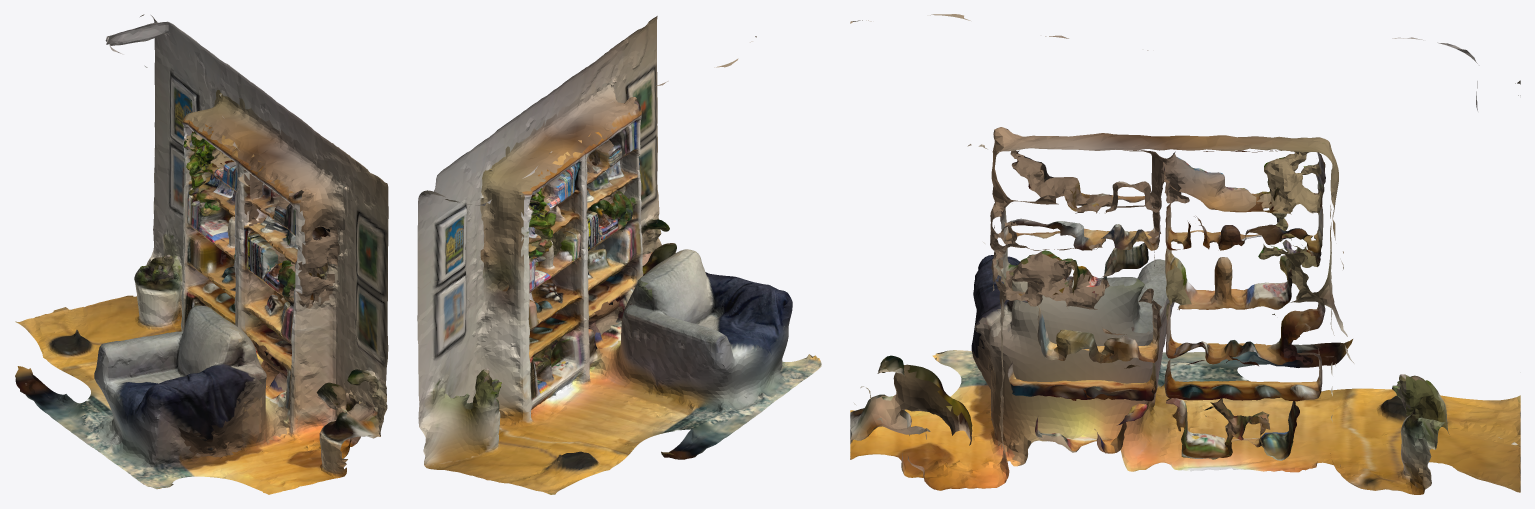
The model's file is bookshelf22.glb.
The picture shows the model from 3 angles, left to right: view 1: azimuth 30°, elevation 25°; view 2: azimuth 150°, elevation 25°; view 3: azimuth 270°, elevation 25°; orthographic projection. The views are drawn at different scales.
Bounding box in the file's own units: 1.88 × 2.46 × 3.65.
1 material, 1 textured.
